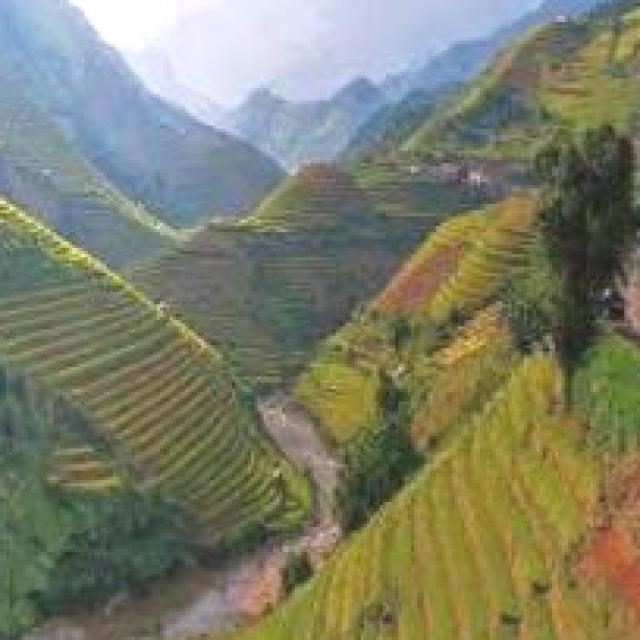upstair: (35, 287, 296, 519)
